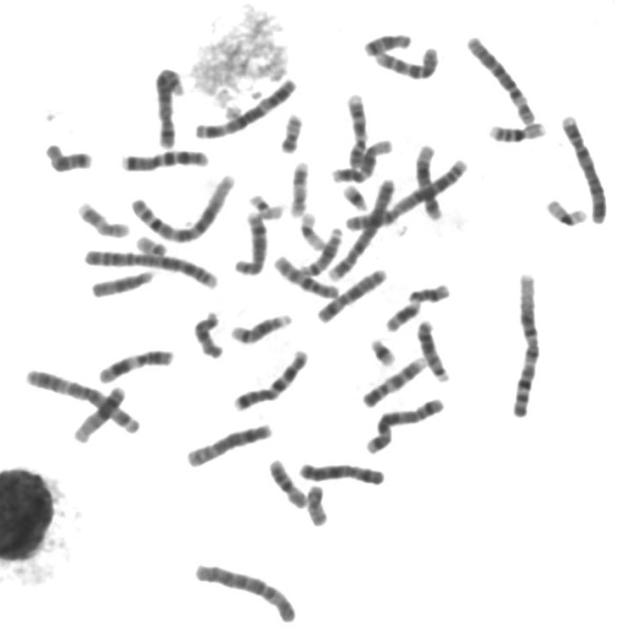A1: (128, 168, 238, 244), (507, 266, 543, 419)
A2: (339, 154, 469, 232), (78, 244, 221, 290)
A3: (21, 363, 142, 436), (189, 73, 300, 140)
B4: (324, 174, 398, 283), (557, 109, 610, 225)
B5: (361, 393, 447, 456), (149, 62, 187, 150)
C10: (269, 250, 344, 301), (370, 40, 441, 82)
C11: (381, 278, 454, 333), (94, 344, 176, 385)
C12: (326, 134, 394, 184), (410, 140, 446, 221)
C6: (189, 558, 300, 625), (462, 30, 538, 126)
C7: (229, 344, 311, 413), (116, 144, 212, 173)
C8: (182, 418, 275, 469), (230, 208, 270, 277)
C9: (357, 351, 429, 410), (340, 88, 371, 169)
D13: (68, 381, 132, 448), (413, 315, 453, 384)
D14: (294, 223, 344, 278), (227, 309, 294, 345)
D15: (87, 265, 157, 299), (188, 306, 226, 360)
E16: (265, 454, 310, 510), (484, 116, 549, 144)
E17: (72, 197, 132, 240), (286, 156, 312, 220)
E18: (40, 138, 94, 174), (360, 28, 413, 58)
F19: (542, 193, 590, 228), (295, 207, 328, 251)
F20: (275, 108, 305, 155), (302, 480, 331, 528)
G21: (365, 334, 399, 368), (339, 180, 371, 213)
G22: (245, 188, 286, 221), (130, 230, 170, 258)
X: (312, 264, 389, 324), (295, 457, 387, 487)
